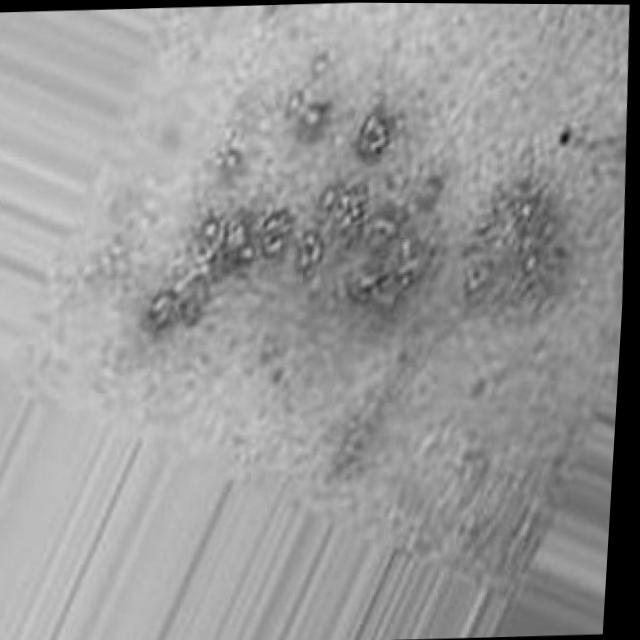Shingles: (122, 97, 451, 346), (443, 171, 573, 324)
